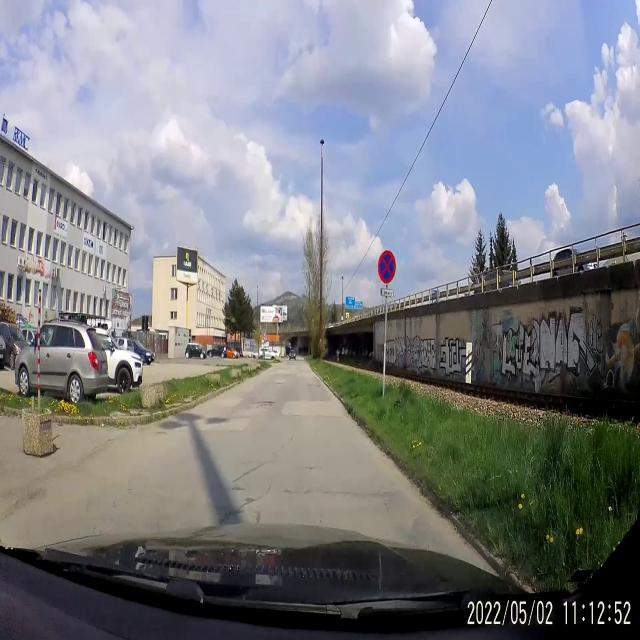Pothole: (250, 394, 274, 414)
